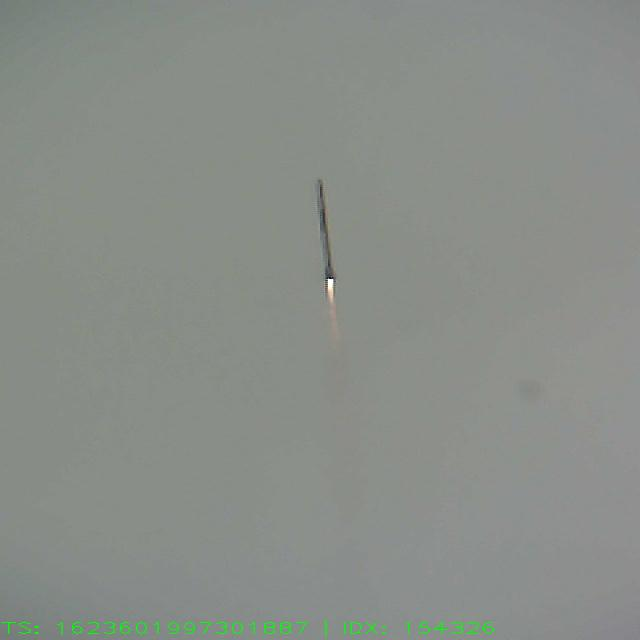Rocket: (315, 178, 340, 280)
